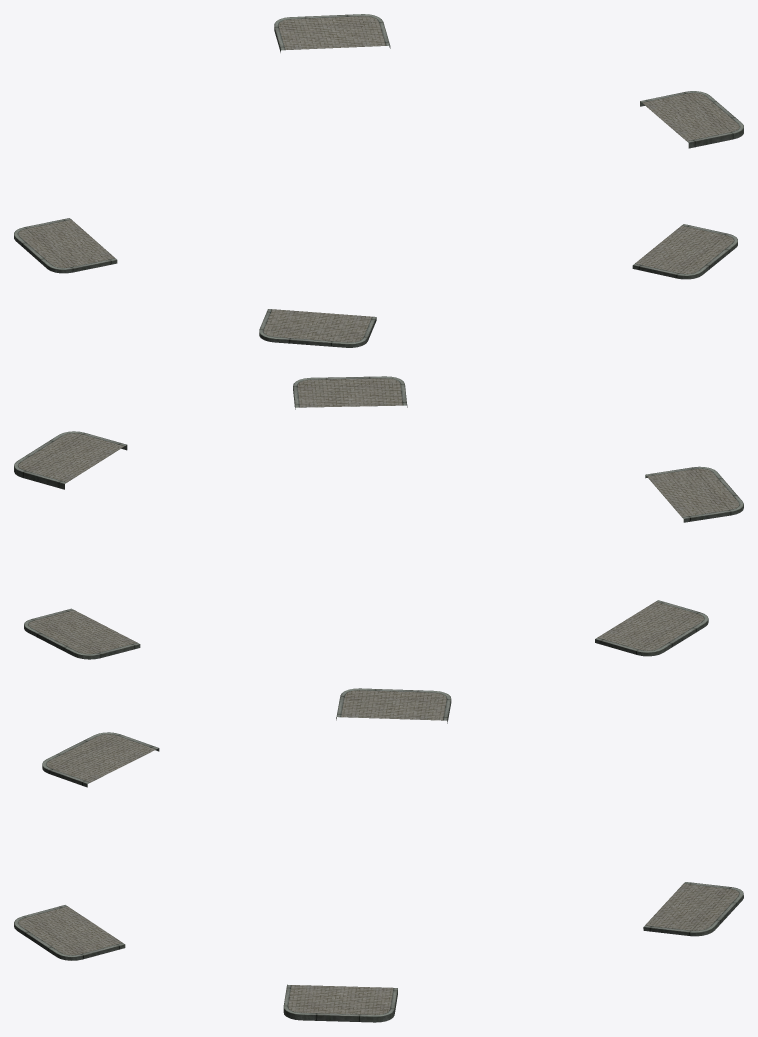
File: Path_Ends_Middle_COMBO.fbx
3 views of the same model, one above another, from view 1: azimuth 30°, elevation 25°; view 2: azimuth 150°, elevation 25°; view 3: azimuth 270°, elevation 25° (orthographic).
Parts seen in each view (by area): view 1: VP_park_pavement_block; view 2: VP_park_pavement_block; view 3: VP_park_pavement_block.
Part boxes in pixels (left/top/right/bottom): VP_park_pavement_block: left=14, top=14, right=743, bottom=347; VP_park_pavement_block: left=14, top=376, right=743, bottom=659; VP_park_pavement_block: left=14, top=688, right=743, bottom=1022.
Bounding box in the file's own units: 24.6 × 0.3099 × 23.01.
